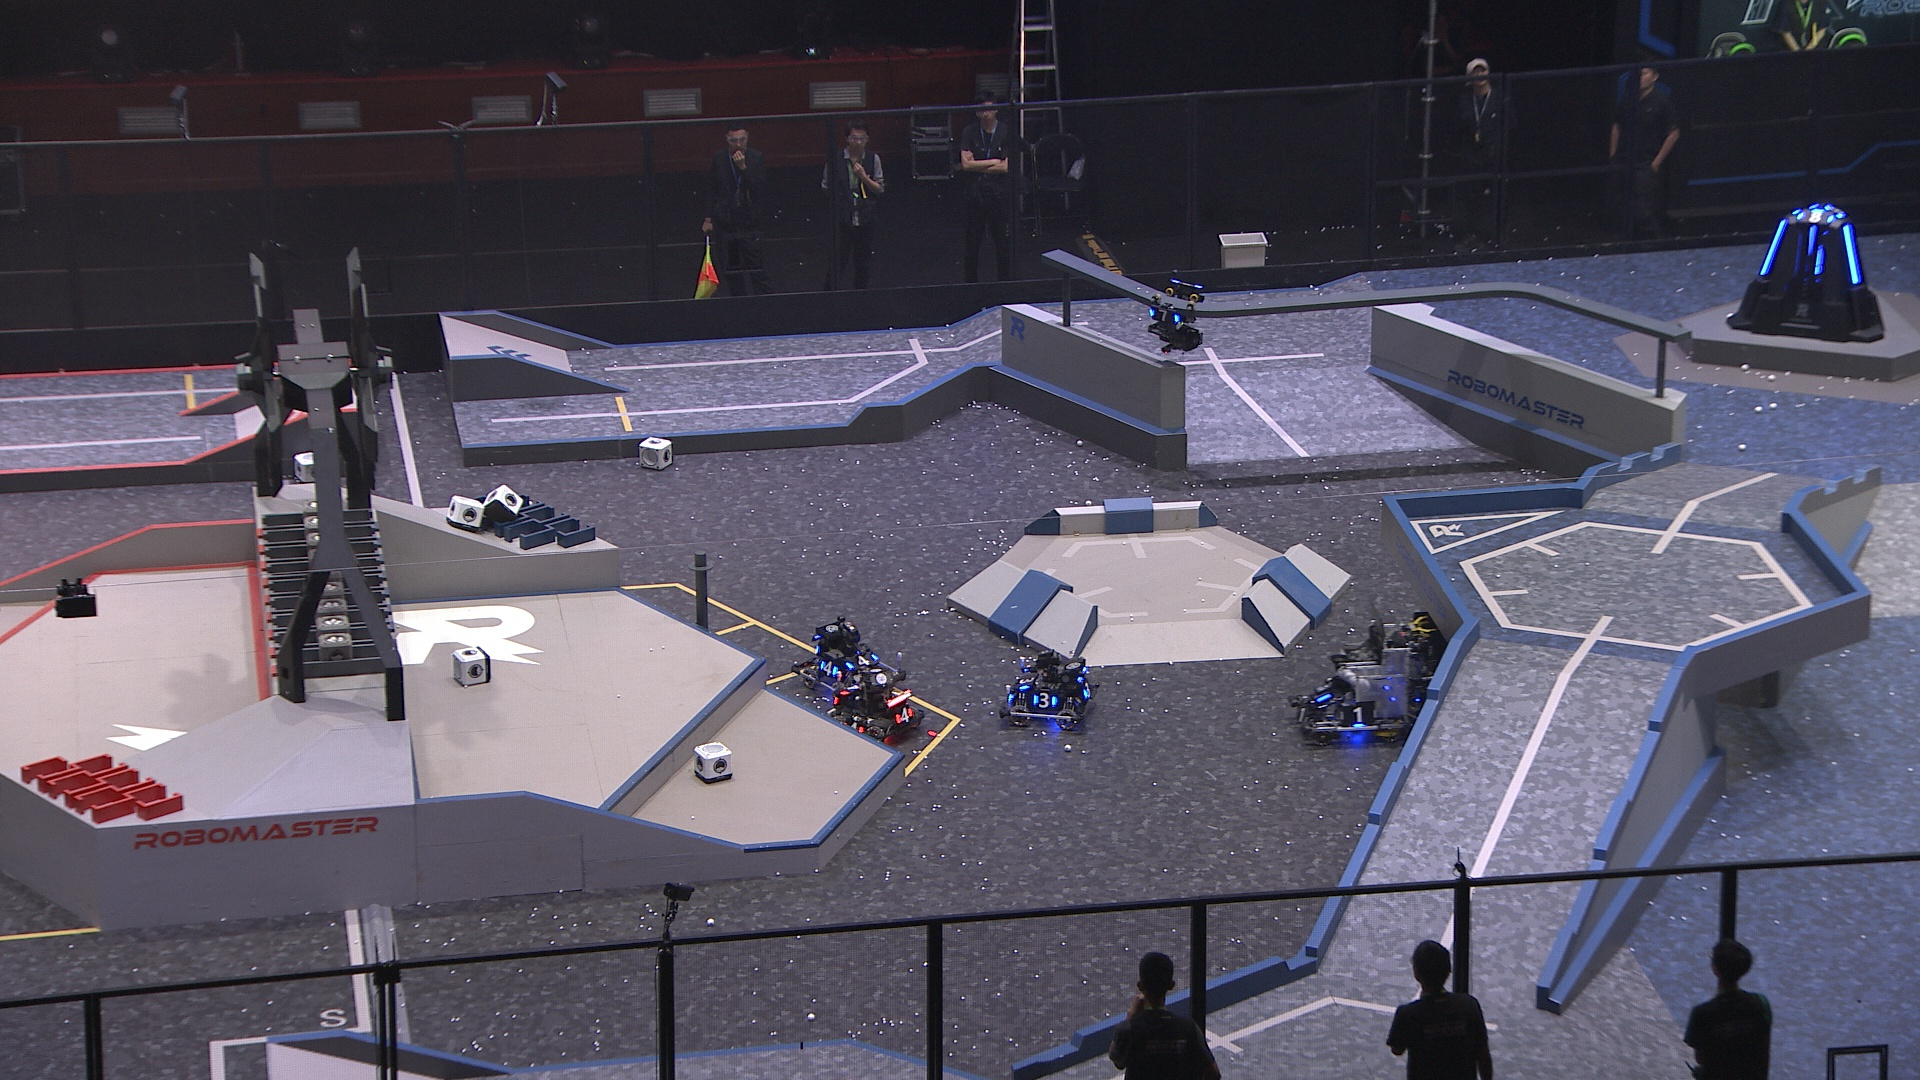armor: (1756, 216, 1787, 276), (1841, 223, 1863, 285), (1335, 700, 1378, 727), (1149, 309, 1187, 328), (1795, 204, 1833, 223), (845, 655, 878, 671), (816, 659, 840, 680), (1031, 690, 1058, 708), (1295, 700, 1309, 731), (1807, 222, 1818, 258), (1017, 665, 1034, 690), (895, 707, 916, 727), (840, 679, 861, 695), (843, 717, 868, 731), (1081, 679, 1092, 703)
base: (1730, 196, 1888, 345)
car: (1291, 609, 1462, 745), (825, 665, 926, 746), (997, 647, 1095, 731), (794, 618, 884, 690)
watcher: (1145, 276, 1207, 353)
